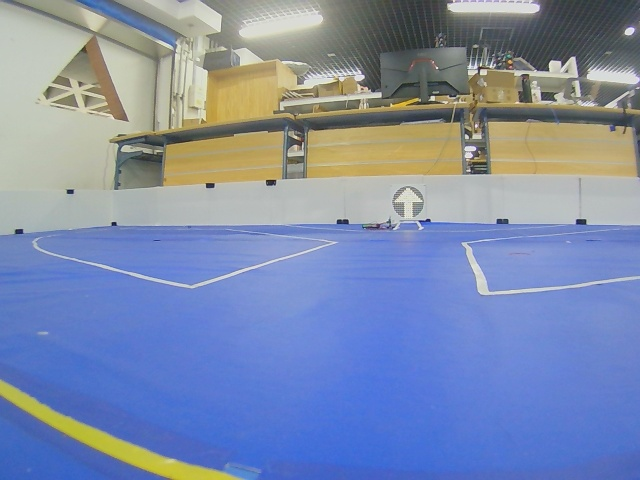straight_yellow: (393, 186, 424, 219)
